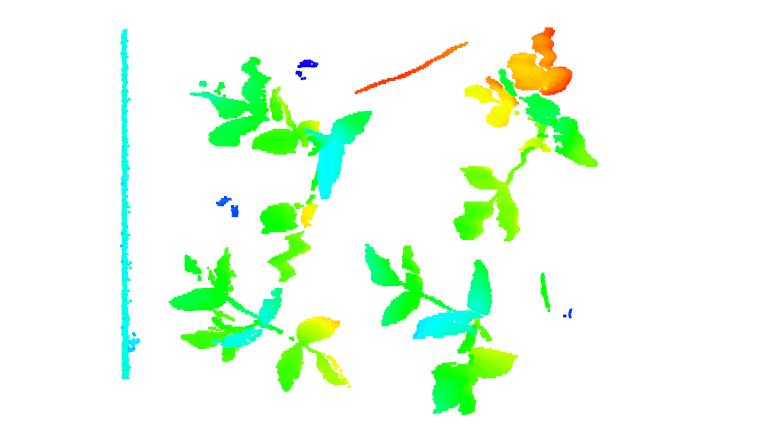mungbean: (194, 56, 375, 282), (351, 237, 524, 421), (451, 22, 593, 246), (164, 250, 357, 393)
